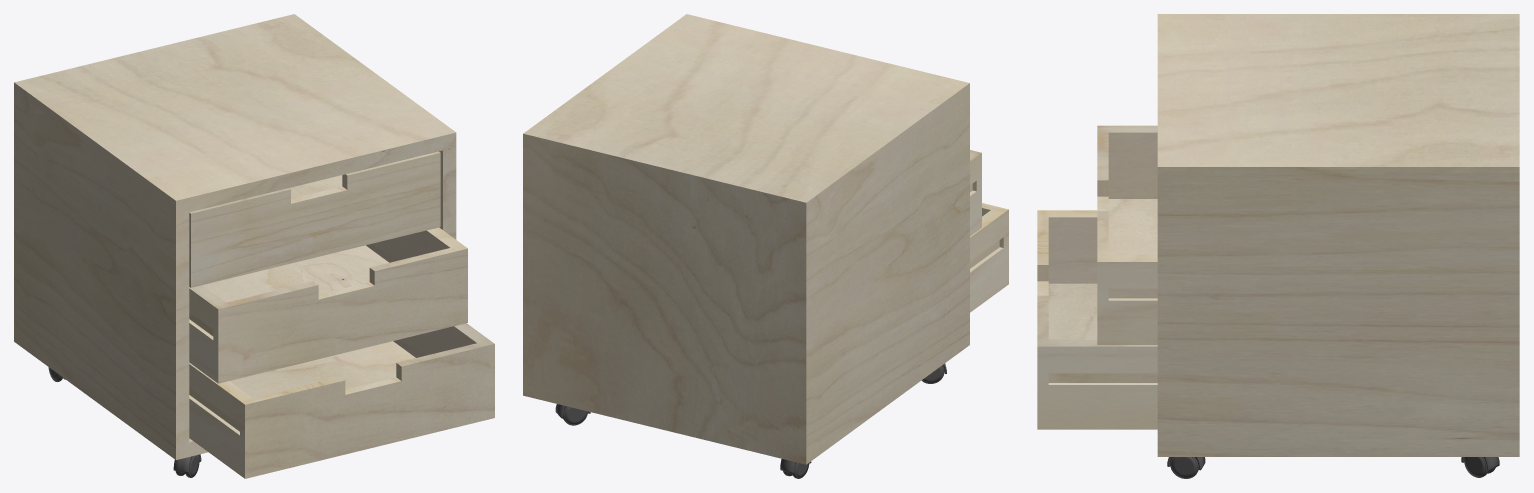
Rendered from bamboo_desk_drawer.glb.
The picture shows the model from 3 angles, left to right: view 1: azimuth 30°, elevation 25°; view 2: azimuth 150°, elevation 25°; view 3: azimuth 270°, elevation 25°; orthographic projection. The views are drawn at different scales.
Parts seen in each view (by area): view 1: Circle.002; view 2: Circle.002; view 3: Circle.002.
Boxes of the visible parts, x1,y1,x2,y2 form: Circle.002: (14,14,494,478); Circle.002: (523,14,1008,478); Circle.002: (1037,14,1519,478).
Bounding box in the file's own units: 15.31 × 15.2 × 20.4.
Materials: 5 (5 with a texture image).
